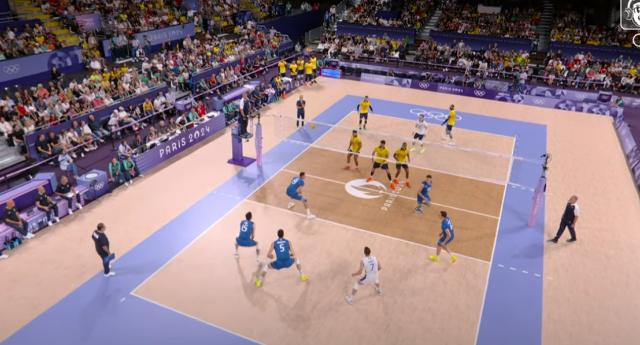Levantador: (431, 210, 457, 264), (356, 92, 372, 132)
Libero: (345, 247, 389, 305), (410, 114, 428, 154)
bola: (308, 120, 318, 132)
